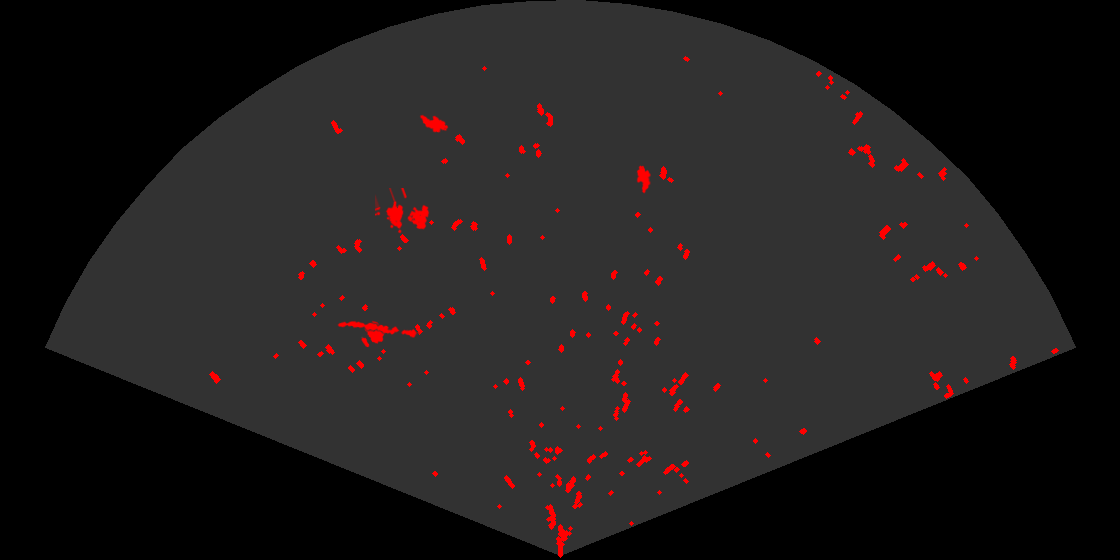AUV: (418, 113, 450, 134), (635, 164, 651, 195)
ball: (360, 319, 387, 349)
cage: (375, 188, 431, 235)
chain: (336, 319, 420, 339)
